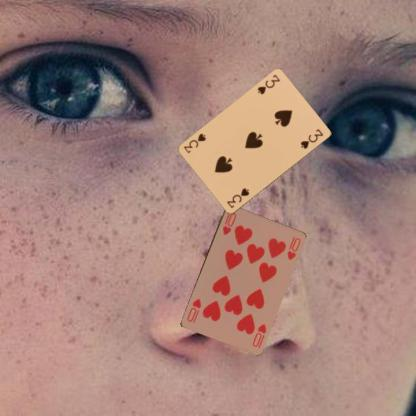10h: (249, 320, 268, 348), (219, 209, 238, 236)
3s: (224, 185, 250, 210), (255, 72, 281, 96)
